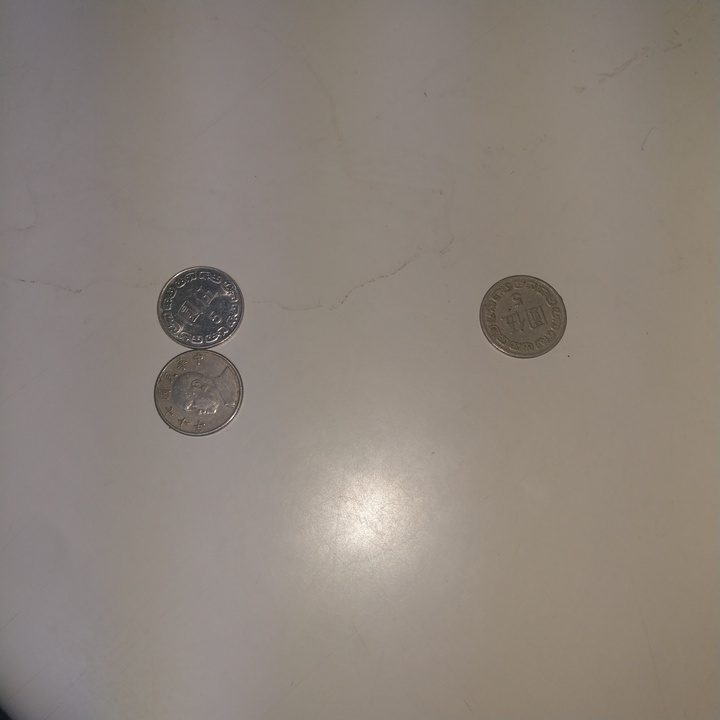5 dollar: (154, 350, 245, 440), (154, 264, 248, 348), (478, 275, 567, 359)
